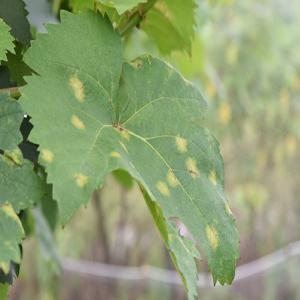Folha: (17, 7, 241, 298)
Fungo: (68, 74, 84, 102), (3, 147, 23, 167), (110, 116, 129, 134), (205, 224, 218, 250), (186, 156, 200, 178), (218, 102, 231, 124), (70, 113, 85, 131), (175, 134, 188, 154), (73, 171, 88, 187), (156, 180, 170, 196), (128, 58, 142, 70), (41, 148, 53, 162), (208, 169, 217, 186), (188, 167, 198, 177), (109, 150, 121, 158), (169, 167, 176, 180), (110, 116, 117, 128), (118, 126, 129, 133), (177, 228, 184, 238), (23, 111, 28, 119), (112, 122, 117, 128), (118, 125, 122, 132)
